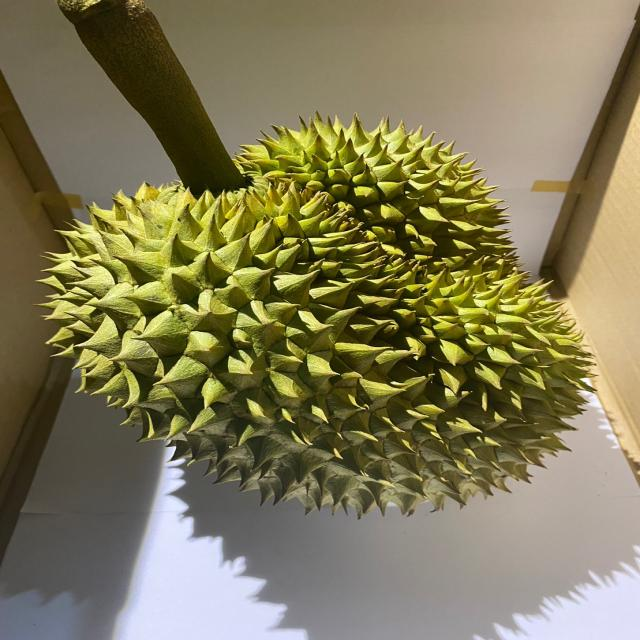immature: (36, 110, 600, 516)
